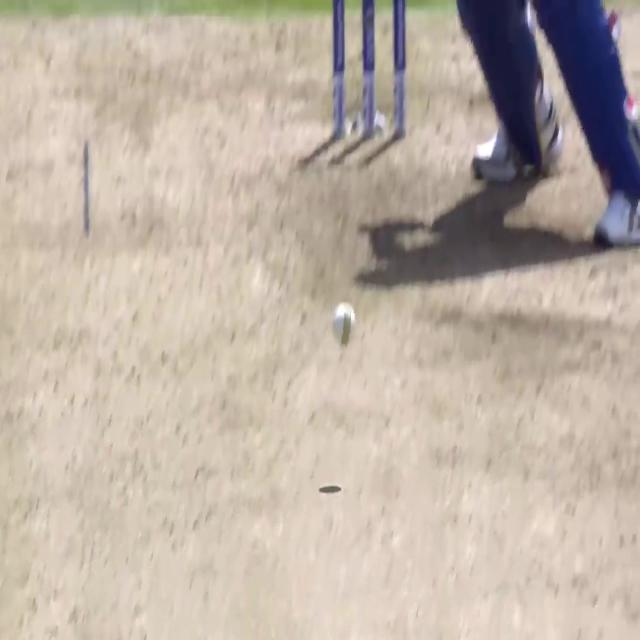ball: (333, 300, 357, 346)
